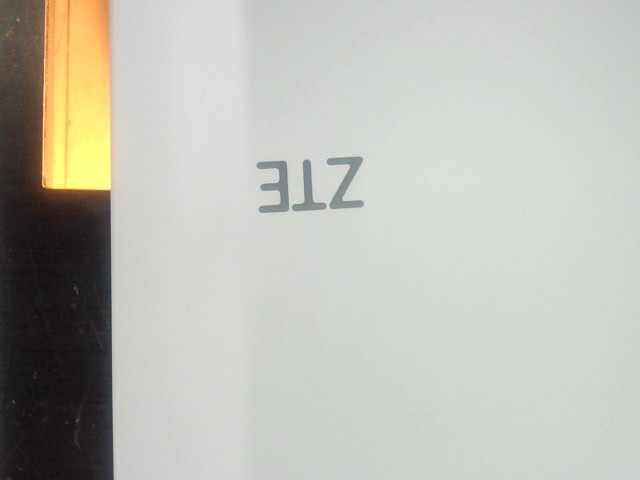AO_ZTESmall: (242, 143, 374, 227)
